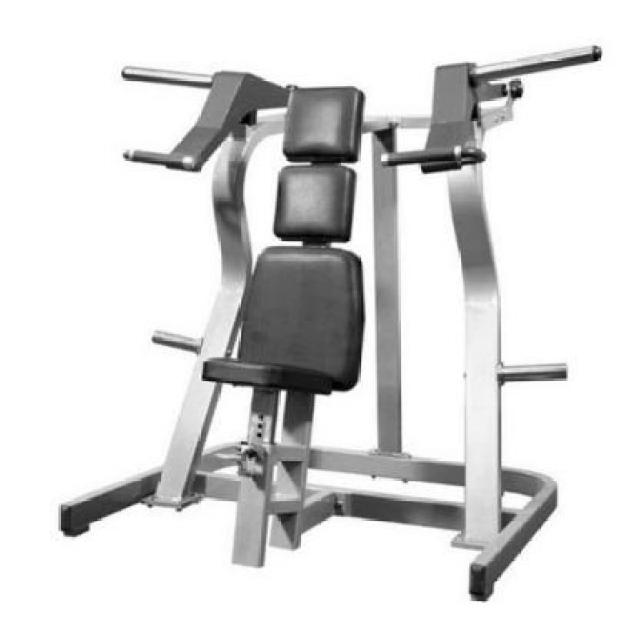shoulder press machine: (52, 43, 603, 603)
